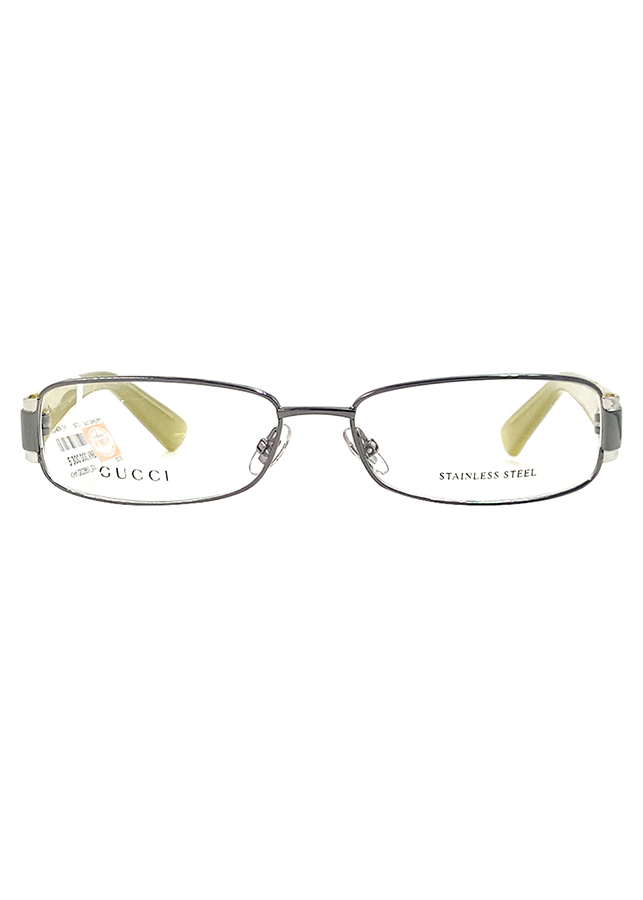Gucci: (93, 459, 177, 485)
